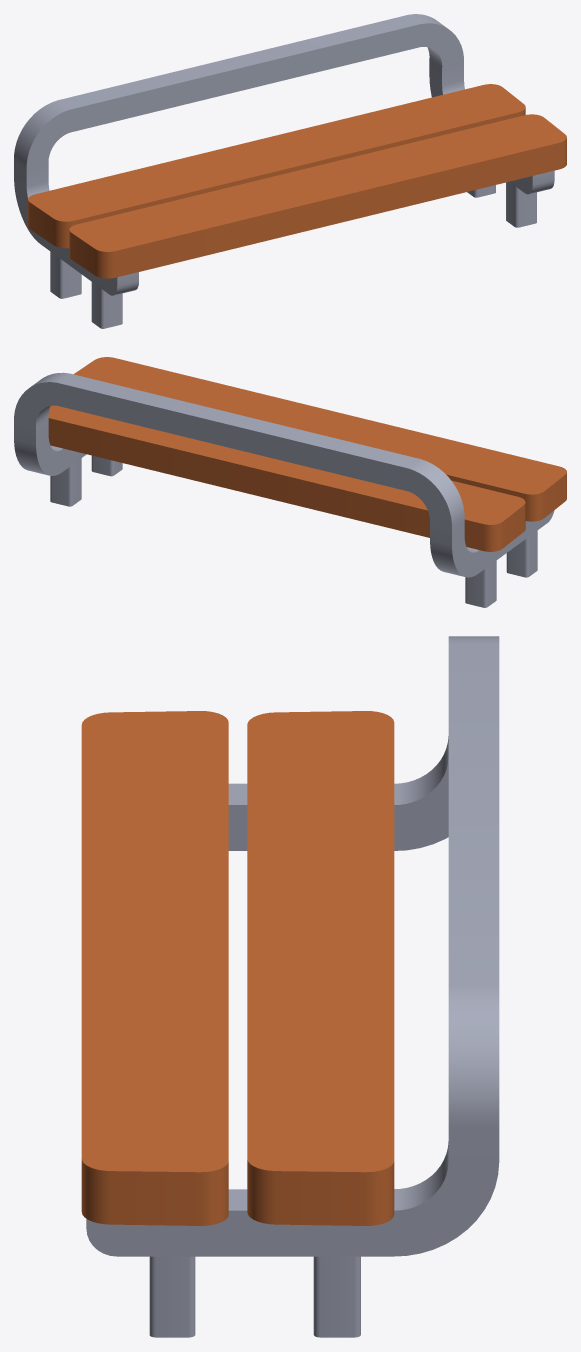
Rendered from skameika 1.fbx.
3 views of the same model, one above another, from view 1: azimuth 30°, elevation 25°; view 2: azimuth 150°, elevation 25°; view 3: azimuth 270°, elevation 25° (orthographic). The views are drawn at different scales.
Visible parts, largest first — view 1: Cube.003; view 2: Cube.003; view 3: Cube.003.
Part boxes in pixels (left/top/right/bottom): Cube.003: left=14, top=14, right=566, bottom=328; Cube.003: left=14, top=357, right=566, bottom=607; Cube.003: left=81, top=636, right=499, bottom=1337.
Size of the model in its own units: 1637 by 512 by 626.
Materials: 1 (1 with a texture image).
